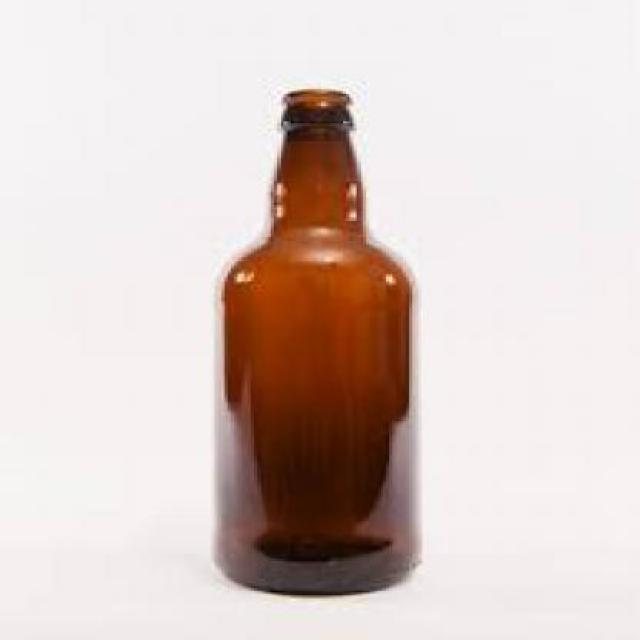kaca: (214, 86, 412, 594)
